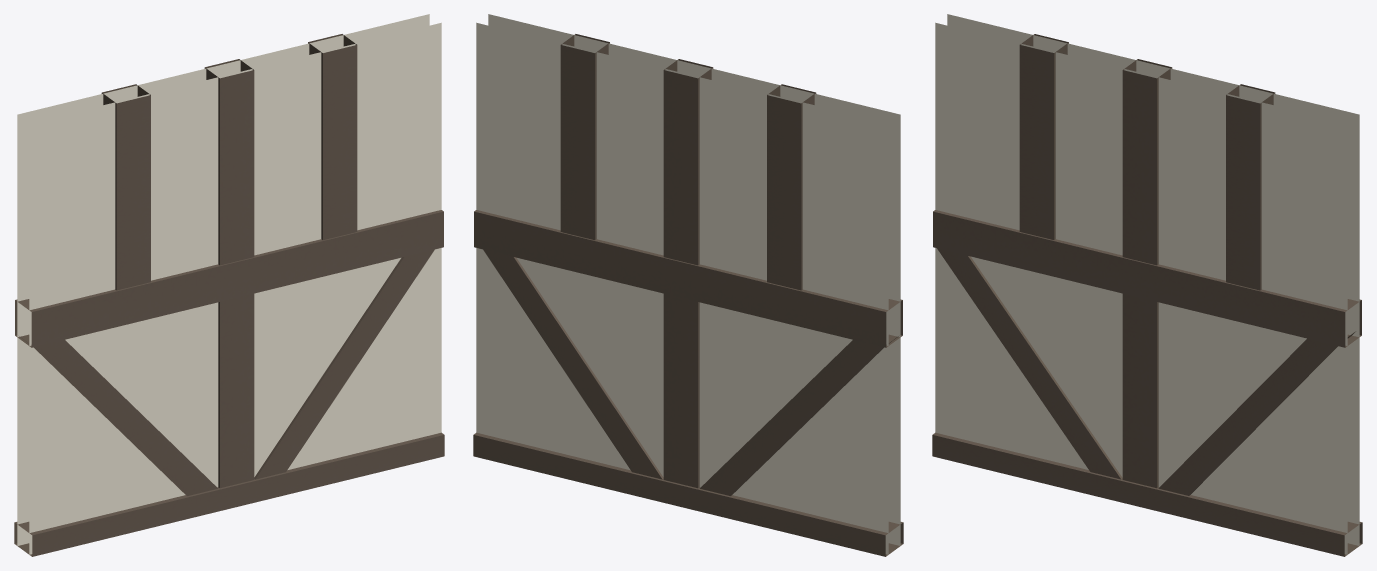
Rendered from Wall_1D.fbx.
3 renders of one model, left to right at view 1: azimuth 30°, elevation 25°; view 2: azimuth 150°, elevation 25°; view 3: azimuth 330°, elevation 25°, orthographic.
Visible parts, largest first — view 1: pCube762; view 2: pCube762; view 3: pCube762.
Boxes of the visible parts, x1,y1,x2,y2 form: pCube762: [14, 14, 444, 556]; pCube762: [473, 14, 903, 556]; pCube762: [932, 14, 1362, 556].
Size of the model in its own units: 400 by 400 by 30.
